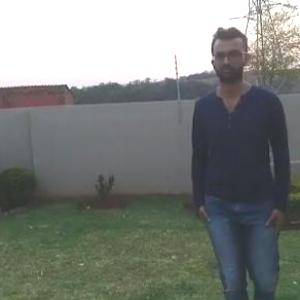follow: (196, 37, 282, 299)
